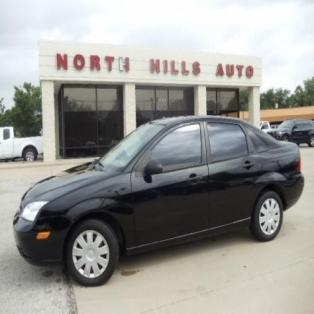Auto: (14, 116, 305, 286)
